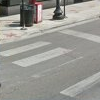crosswalk: (0, 41, 100, 96)
